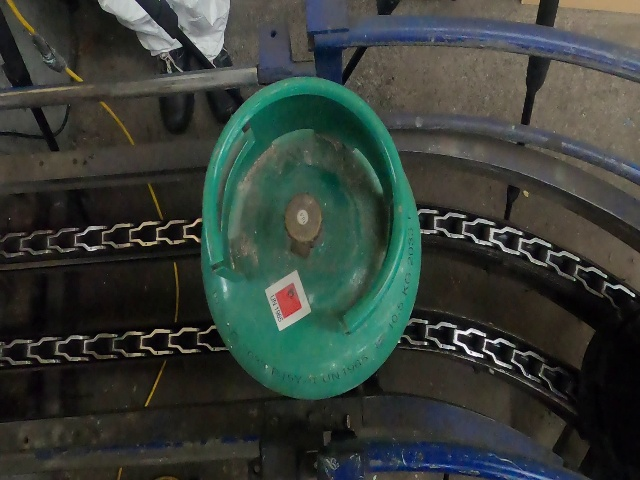gas_bottle: (4, 1, 639, 480)
